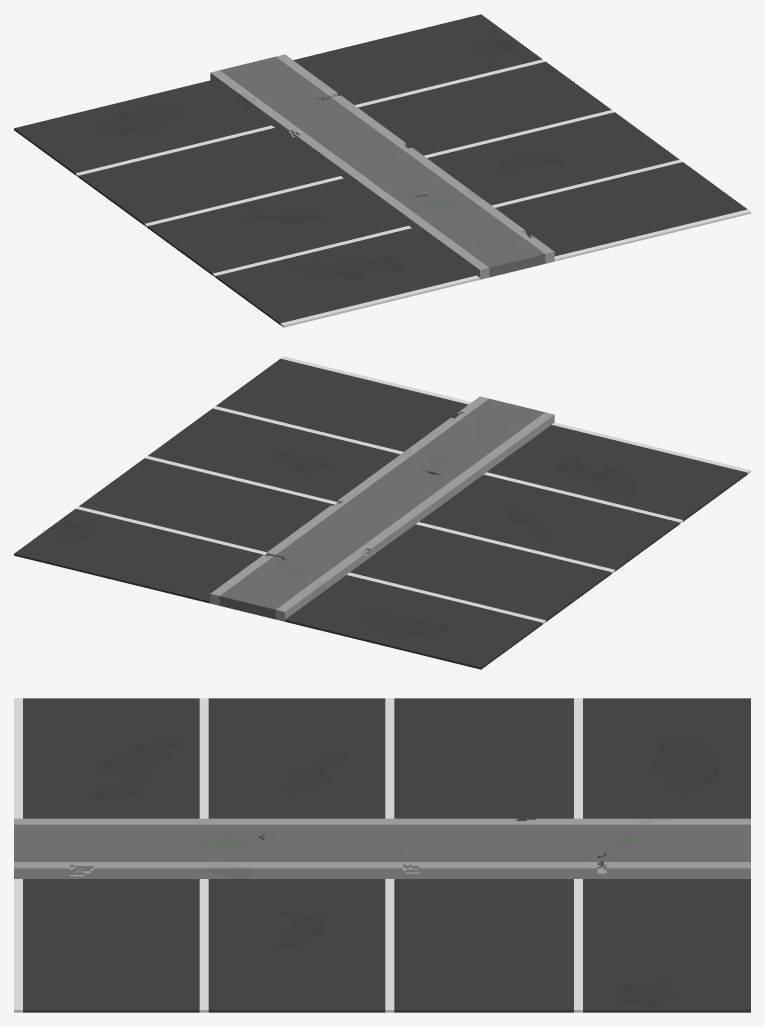
The model's file is parking_v1.vox.obj.
3 views of the same model, one above another, from view 1: azimuth 30°, elevation 25°; view 2: azimuth 150°, elevation 25°; view 3: azimuth 270°, elevation 25° (orthographic). The views are drawn at different scales.
Size of the model in its own units: 25 by 0.5 by 25.
1 material, 1 textured.
